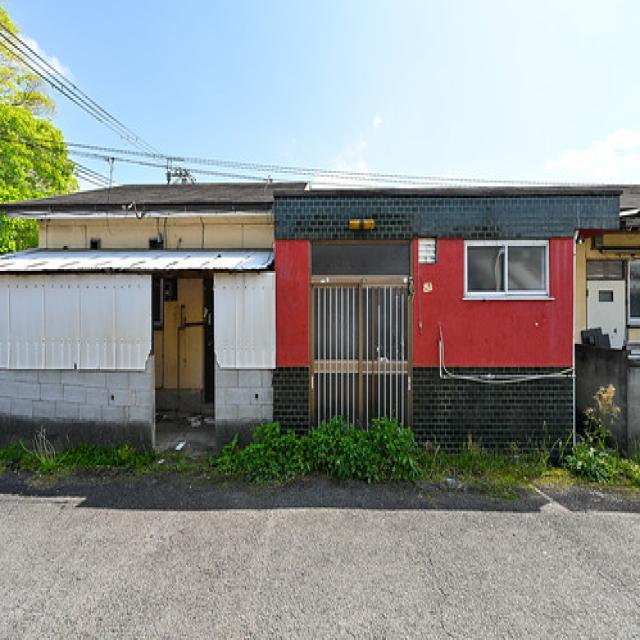building: (1, 174, 640, 474)
